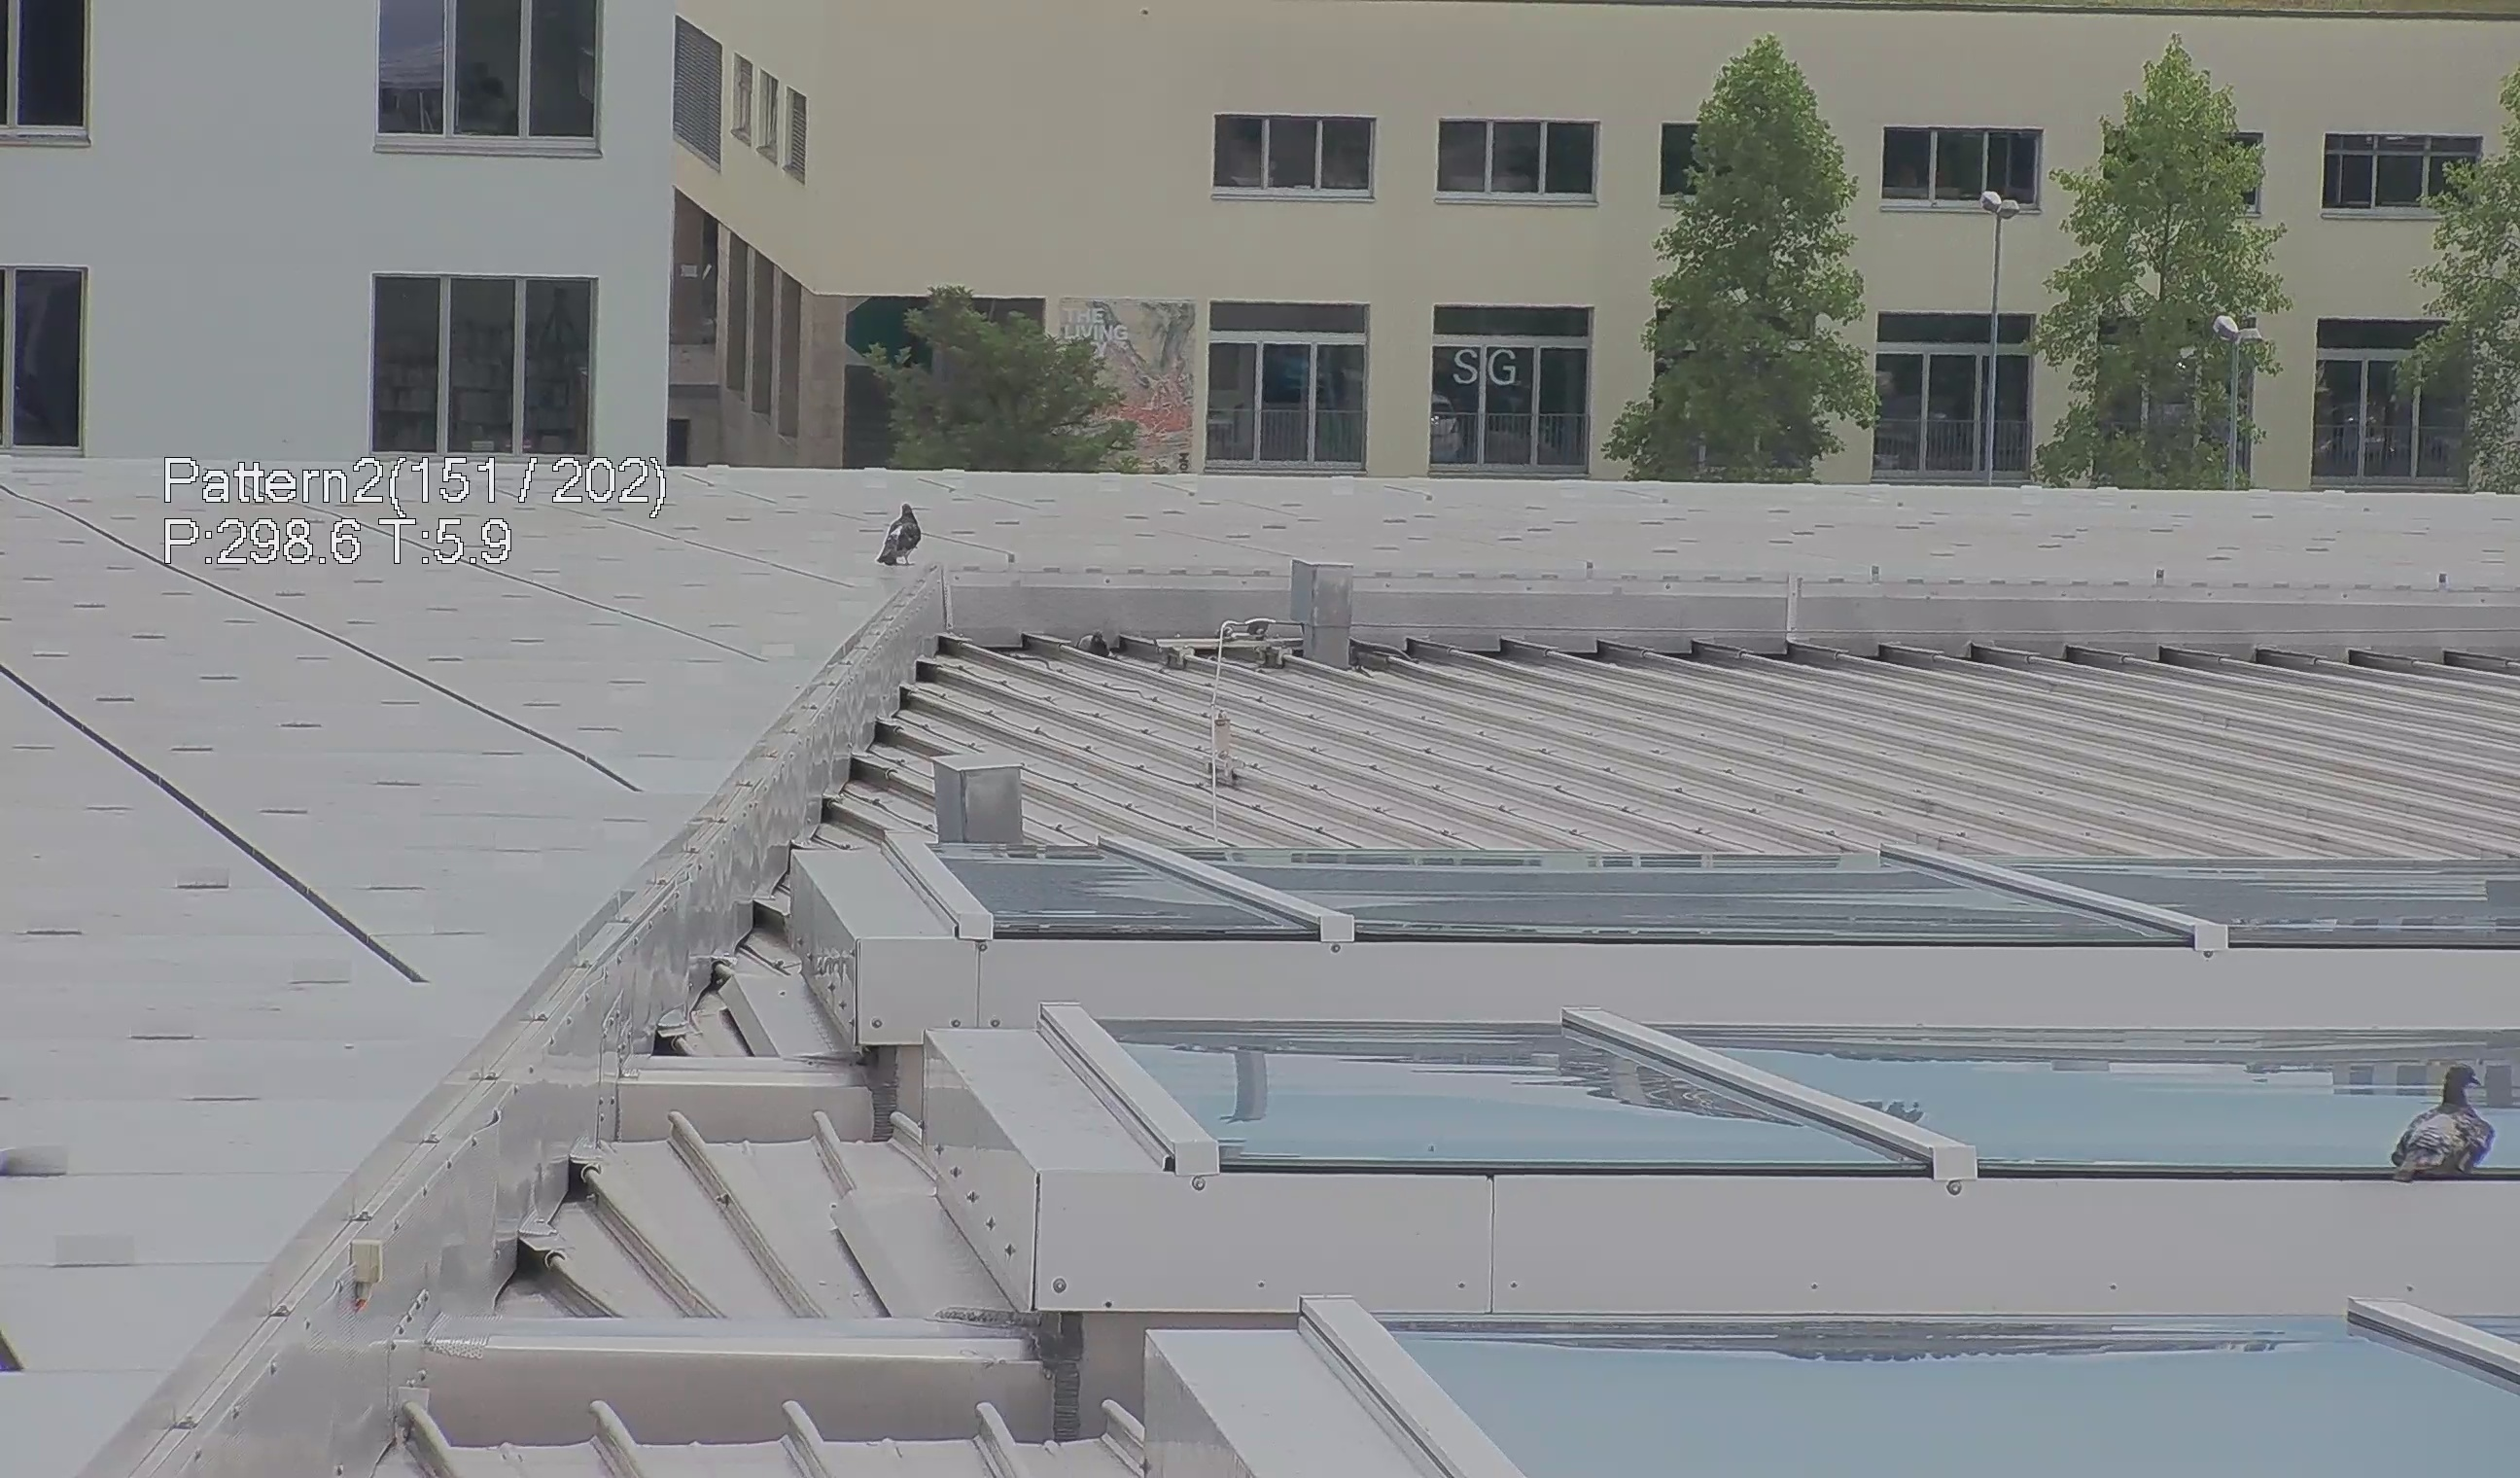Pigeon: (2390, 1059, 2508, 1196), (863, 496, 921, 570), (1064, 628, 1118, 663)
